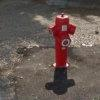a fire hydrant: (52, 16, 74, 69)
